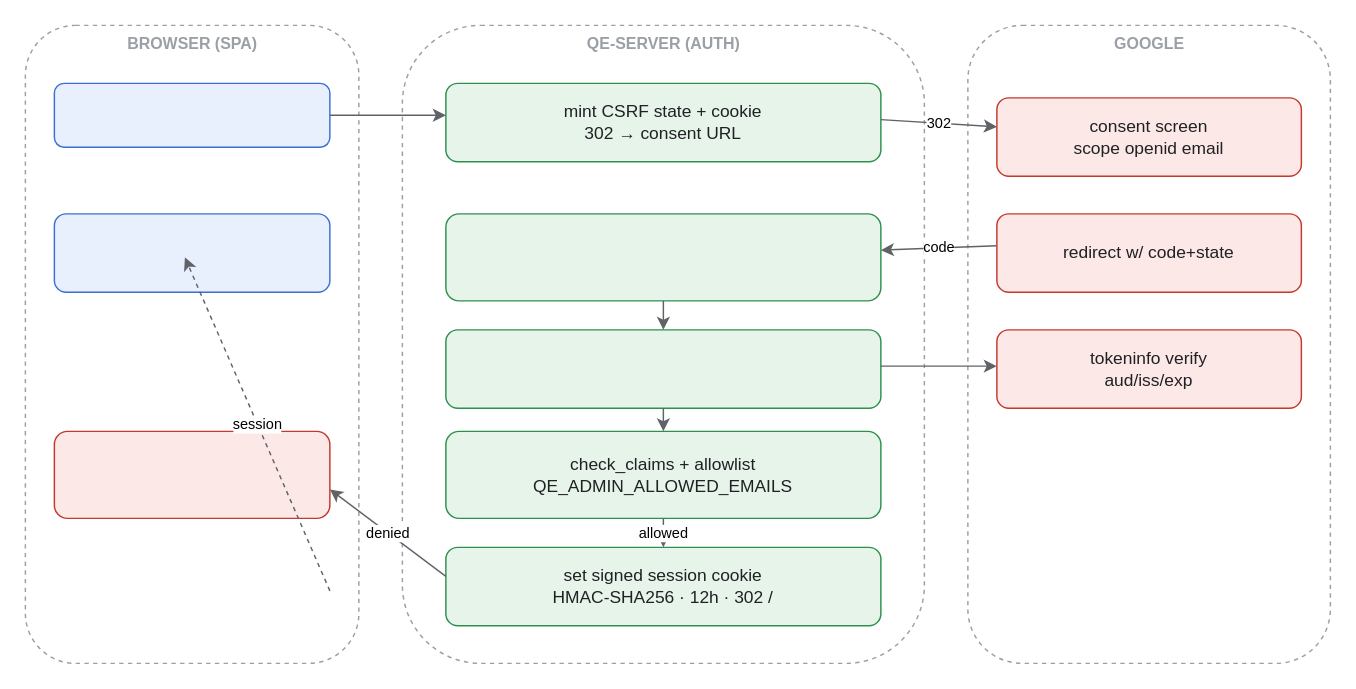
This 1356x689 diagram has some shape labels left out. The centre of each missing label's shape, as x and y in pixels:
"exchange+verify id_token spawn_blocking · http feat." goes at point 662,368.
"GET /api/auth/callback verify CSRF (double-submit)" goes at point 662,256.
"GET /api/auth/login" goes at point 191,114.
"GET /api/me cookie → {email}" goes at point 191,252.
"reject → /?error=forbidden styled Callout" goes at point 191,474.
